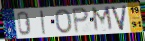0: (17, 10, 32, 37)
I: (39, 10, 48, 36)
M: (91, 6, 115, 33)
O: (54, 8, 73, 35)
P: (71, 7, 91, 35)
V: (110, 5, 127, 32)
